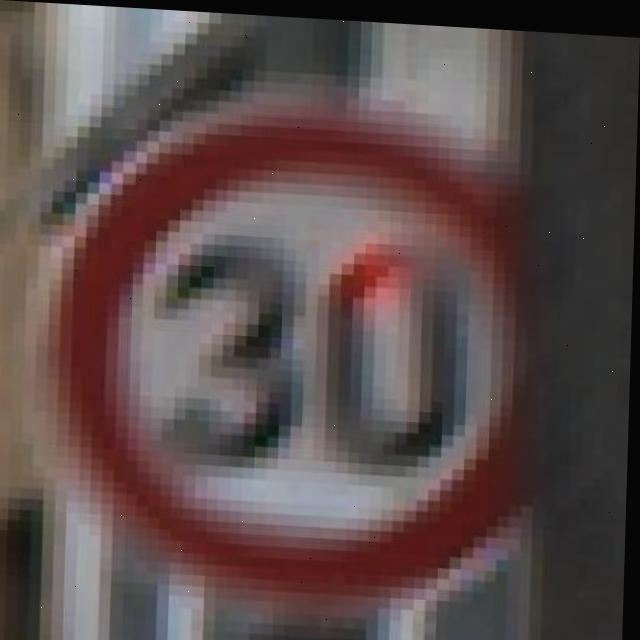Speed limit 30: (45, 93, 553, 601)
